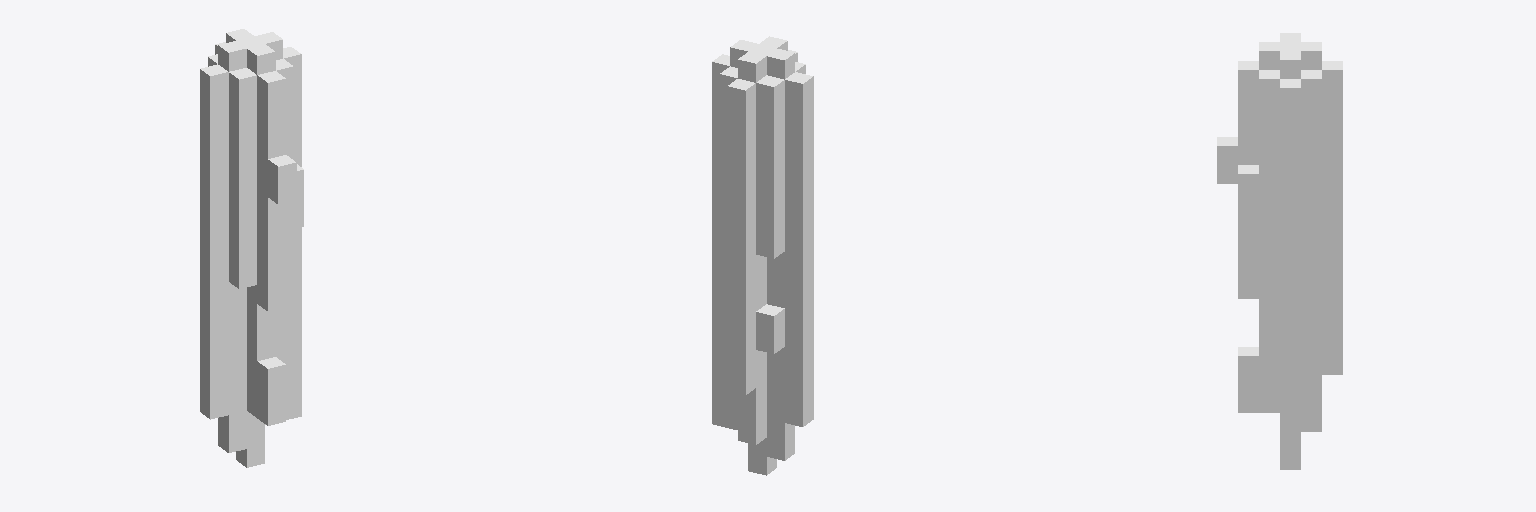
File: pers-2.obj
The picture shows the model from 3 angles: view 1: azimuth 30°, elevation 25°; view 2: azimuth 150°, elevation 25°; view 3: azimuth 270°, elevation 25°; orthographic projection.
Parts seen in each view (by area): view 1: object 1; view 2: object 1; view 3: object 1.
Boxes of the visible parts, x1=… form: object 1: x1=200, y1=29, x2=303, y2=467; object 1: x1=712, y1=36, x2=813, y2=475; object 1: x1=1217, y1=33, x2=1342, y2=469.
Bounding box in the file's own units: 0.5 × 2.2 × 0.6.